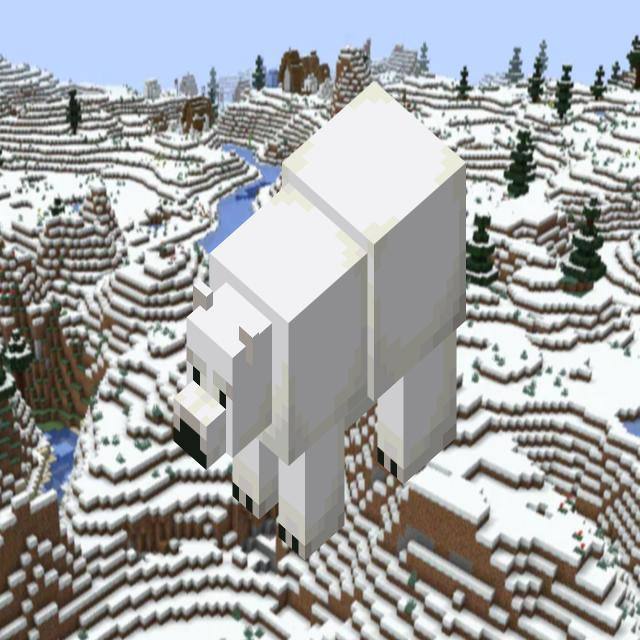Polar Bear: (170, 78, 468, 560)
